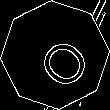O_NW: (22, 22, 88, 88)
